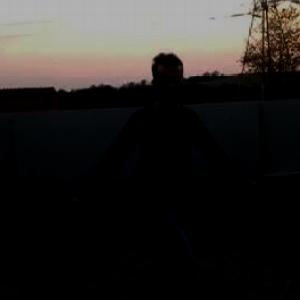land: (85, 74, 250, 299)
